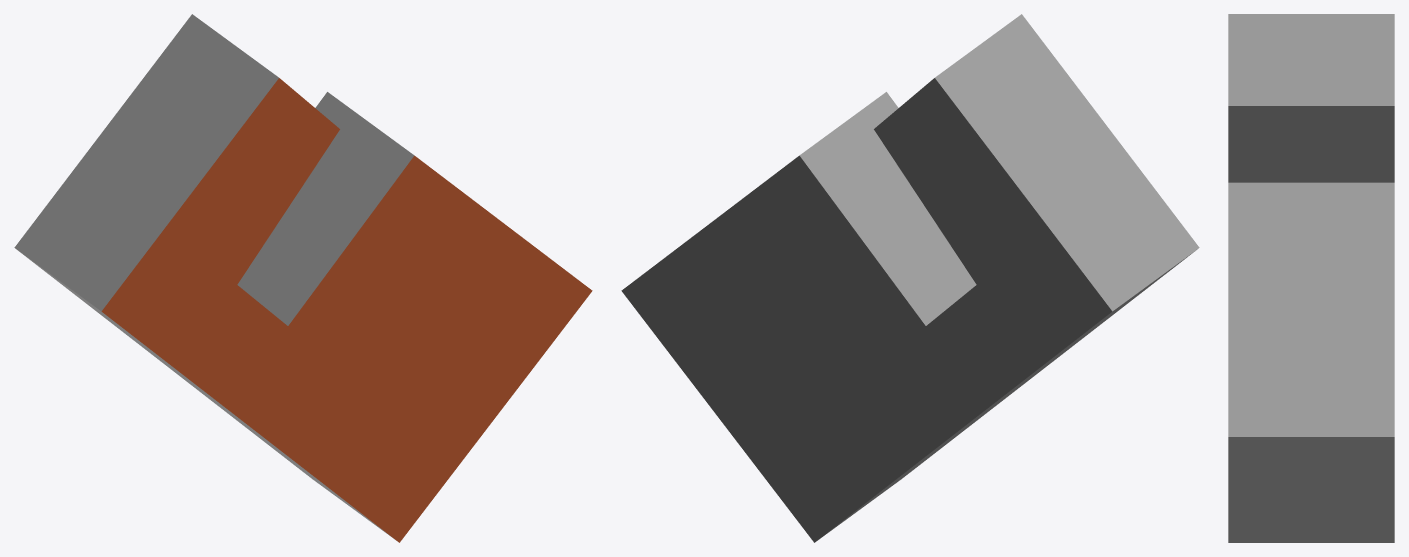
Rendered from construction_5833_assumed_A_Casa_h6m.obj.
The picture shows the model from 3 angles, left to right: view 1: azimuth 30°, elevation 25°; view 2: azimuth 150°, elevation 25°; view 3: azimuth 270°, elevation 25°; orthographic projection. The views are drawn at different scales.
Parts seen in each view (by area): view 1: construction_5833_assumed_A_Casa; view 2: construction_5833_assumed_A_Casa; view 3: construction_5833_assumed_A_Casa.
Boxes of the visible parts, x1,y1,x2,y2 form: construction_5833_assumed_A_Casa: (14, 14, 592, 542); construction_5833_assumed_A_Casa: (621, 14, 1199, 542); construction_5833_assumed_A_Casa: (1228, 14, 1394, 542).
Bounding box in the file's own units: 19.53 × 18.79 × 6.
